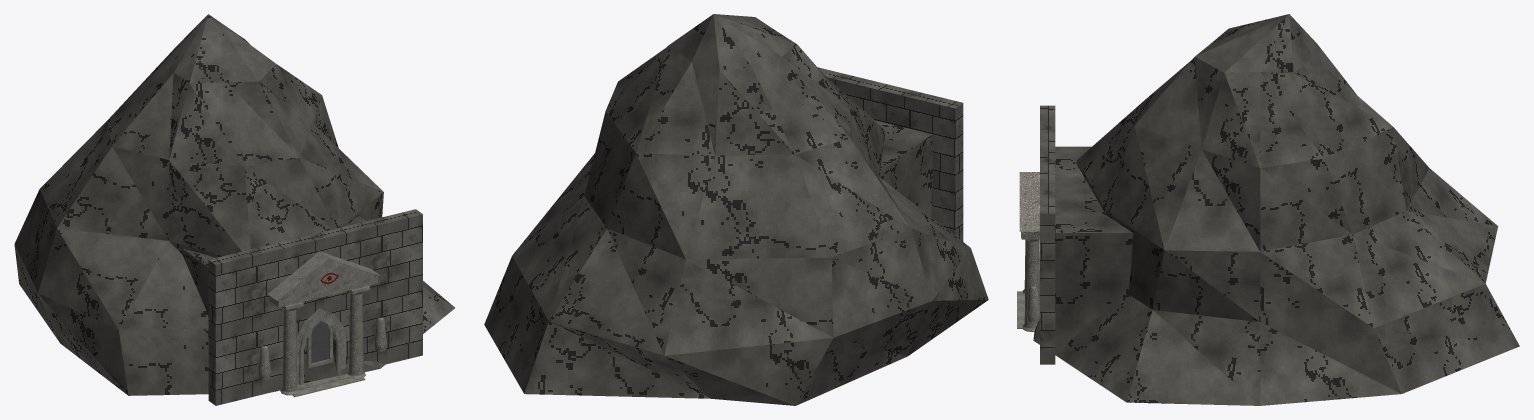
Rendered from veil_chapel.glb.
The picture shows the model from 3 angles, left to right: view 1: azimuth 30°, elevation 25°; view 2: azimuth 150°, elevation 25°; view 3: azimuth 270°, elevation 25°; orthographic projection. The views are drawn at different scales.
Parts seen in each view (by area): view 1: detail, shell-col; view 2: detail, shell-col; view 3: detail, shell-col.
Boxes of the visible parts, x1=… form: detail: x1=14, y1=14, x2=454, y2=397; shell-col: x1=182, y1=209, x2=422, y2=405; detail: x1=484, y1=14, x2=988, y2=405; shell-col: x1=818, y1=67, x2=963, y2=241; detail: x1=1017, y1=14, x2=1519, y2=405; shell-col: x1=1040, y1=105, x2=1133, y2=364.
Size of what is drawn, in the model's own units: 17.44 by 13.36 by 19.65.
Materials: 7 (7 with a texture image).
